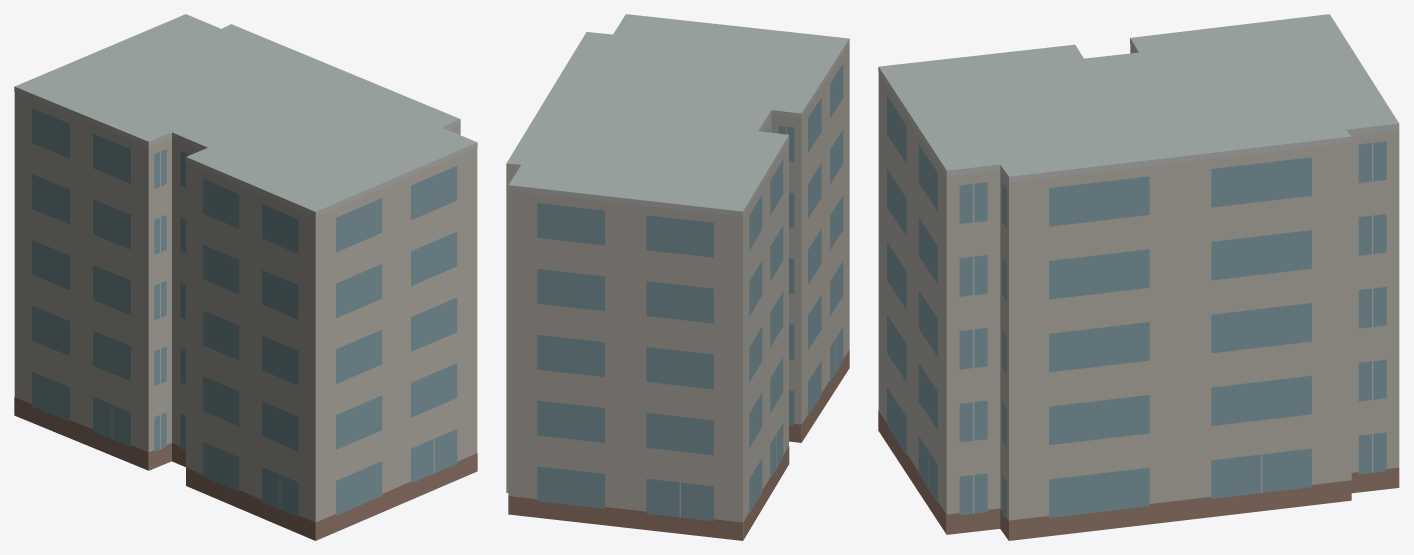
Rendered from survey-upis-32687768.glb.
The picture shows the model from 3 angles, left to right: view 1: azimuth 30°, elevation 25°; view 2: azimuth 150°, elevation 25°; view 3: azimuth 270°, elevation 25°; orthographic projection. The views are drawn at different scales.
Visible parts, largest first — view 1: survey-upis-32687768.tmp; view 2: survey-upis-32687768.tmp; view 3: survey-upis-32687768.tmp.
Part boxes in pixels (<box>): survey-upis-32687768.tmp: <box>14,14,477,540</box>; survey-upis-32687768.tmp: <box>506,14,849,540</box>; survey-upis-32687768.tmp: <box>878,14,1399,540</box>.
Size of the model in its own units: 14.48 by 15.1 by 19.58.
